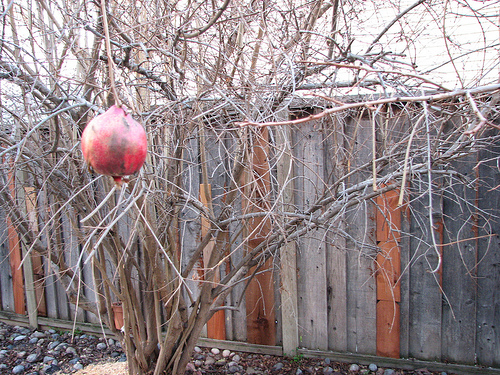pomogranate: (81, 105, 149, 184)
